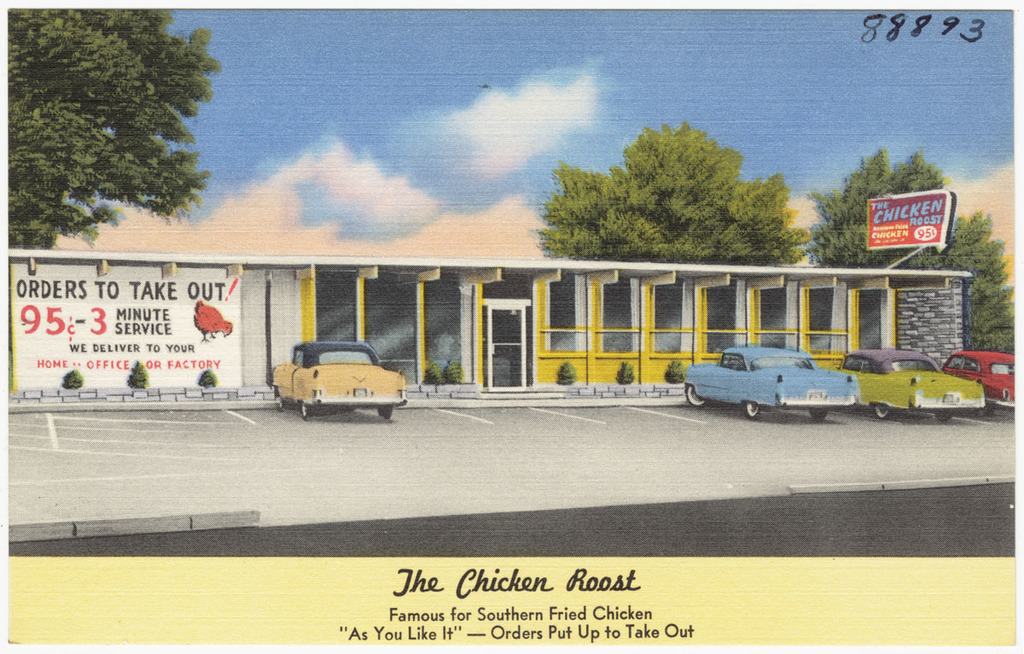Car: (677, 342, 867, 420), (268, 337, 408, 425), (837, 347, 982, 416), (948, 349, 1022, 405)
